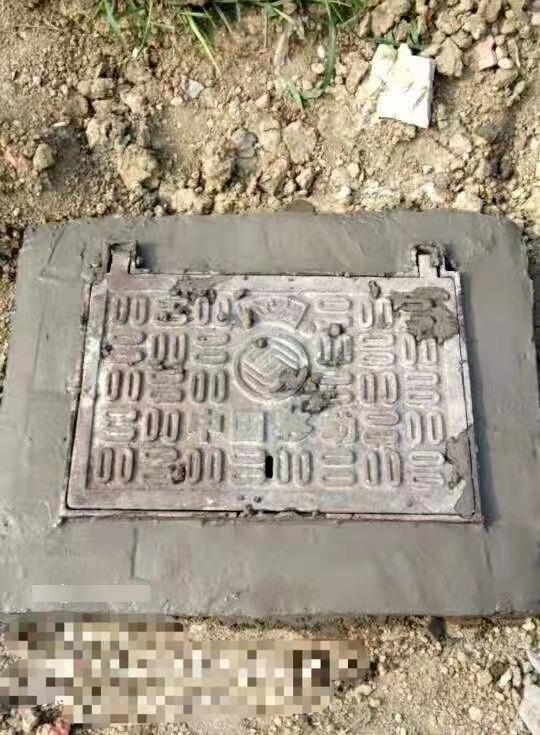wellcover: (0, 216, 540, 617)
